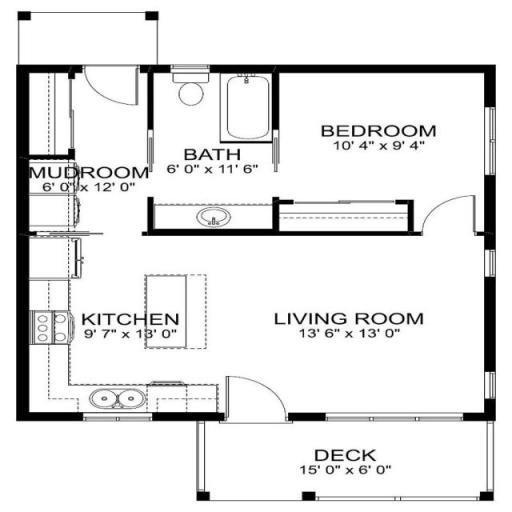bathroom: (36, 74, 289, 232)
bedroom: (284, 80, 494, 249)
hall: (190, 248, 497, 412)
kitchen: (38, 238, 192, 412)
